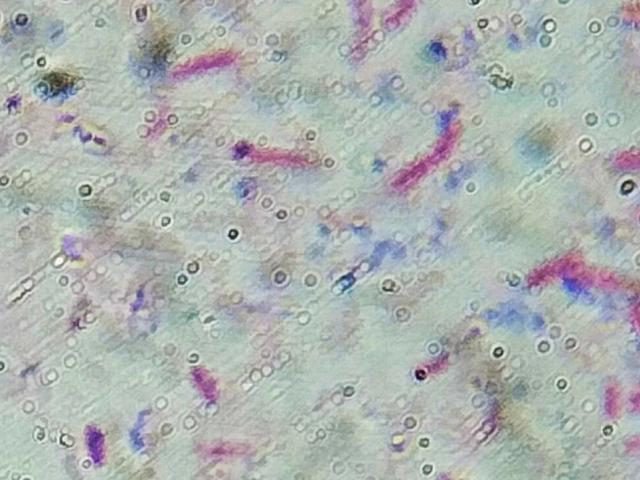E. coli: (389, 118, 465, 198), (239, 141, 321, 177), (172, 41, 244, 77), (181, 355, 224, 409), (418, 328, 466, 375), (79, 419, 121, 469), (569, 259, 630, 292), (340, 3, 376, 57), (192, 436, 257, 462), (528, 250, 571, 287), (595, 144, 640, 174), (597, 375, 624, 421), (377, 0, 419, 29), (481, 391, 509, 431)
